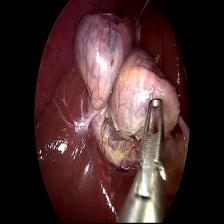Grasper: (135, 94, 171, 208)
